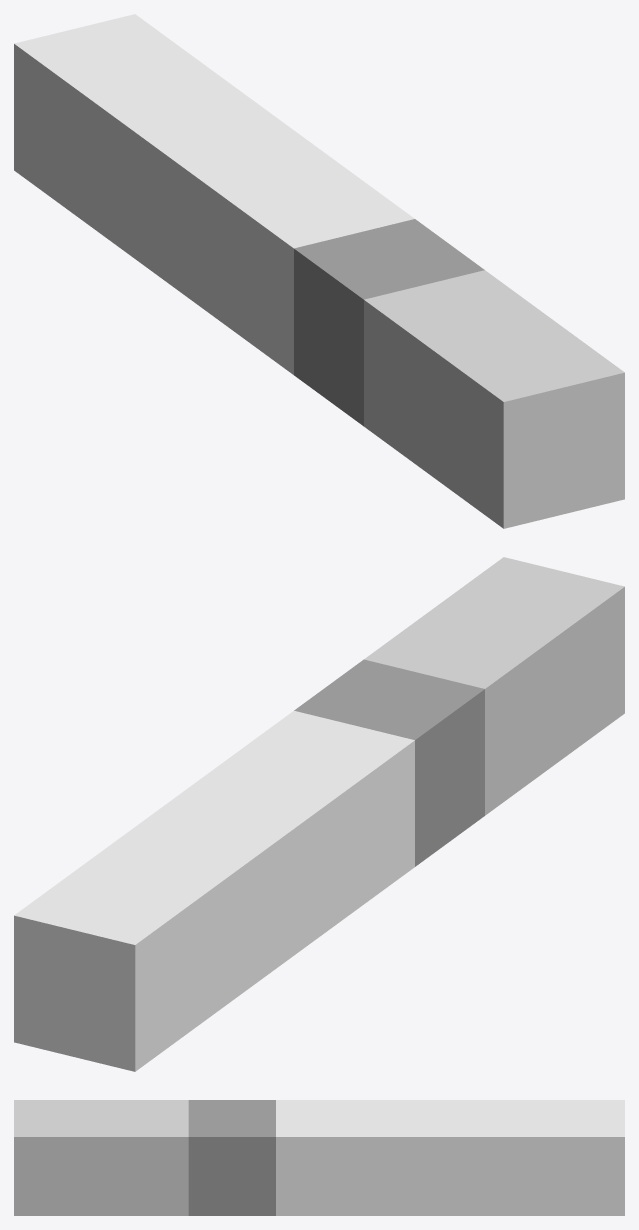
File: Office_Misc_Console_Woo_Remote.gltf
3 renders of one model, top to bottom at view 1: azimuth 30°, elevation 25°; view 2: azimuth 150°, elevation 25°; view 3: azimuth 270°, elevation 25°, orthographic. The views are drawn at different scales.
Parts seen in each view (by area): view 1: Node; view 2: Node; view 3: Node.
Part boxes in pixels (<box>): Node: <box>14,14,624,528</box>; Node: <box>14,557,624,1071</box>; Node: <box>14,1100,624,1215</box>.
Size of the model in its own units: 0.1 by 0.1 by 0.7.
Materials: 1 (1 with a texture image).
